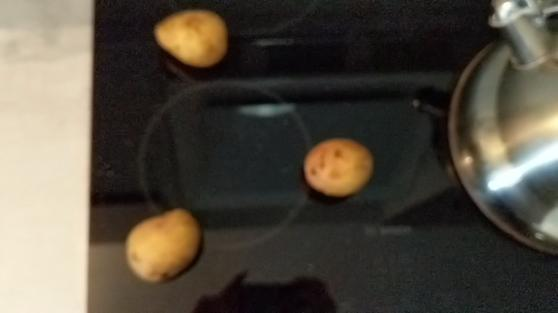potato: (120, 206, 205, 286), (147, 9, 232, 68), (302, 137, 375, 198)
